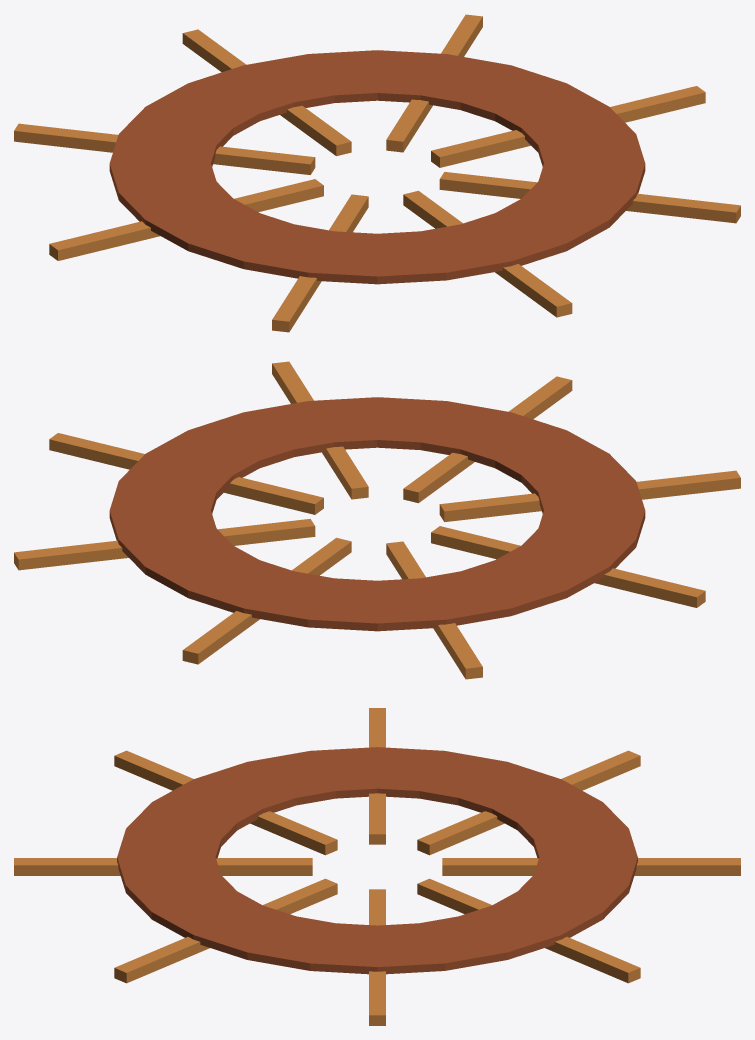
The model's file is Prop_Gothic_Tower_Spoke_Walkway_Wood_01.FBX.
3 renders of one model, top to bottom at view 1: azimuth 30°, elevation 25°; view 2: azimuth 150°, elevation 25°; view 3: azimuth 270°, elevation 25°, orthographic. The views are drawn at different scales.
Visible parts, largest first — view 1: Prop_Gothic_Tower_Spoke_Walkway_Wood_01; view 2: Prop_Gothic_Tower_Spoke_Walkway_Wood_01; view 3: Prop_Gothic_Tower_Spoke_Walkway_Wood_01.
Boxes of the visible parts, bbox=[...] form: Prop_Gothic_Tower_Spoke_Walkway_Wood_01: bbox=[14, 14, 740, 332]; Prop_Gothic_Tower_Spoke_Walkway_Wood_01: bbox=[14, 361, 740, 679]; Prop_Gothic_Tower_Spoke_Walkway_Wood_01: bbox=[14, 708, 740, 1025].
Bounding box in the file's own units: 14672 × 336 × 14672.
